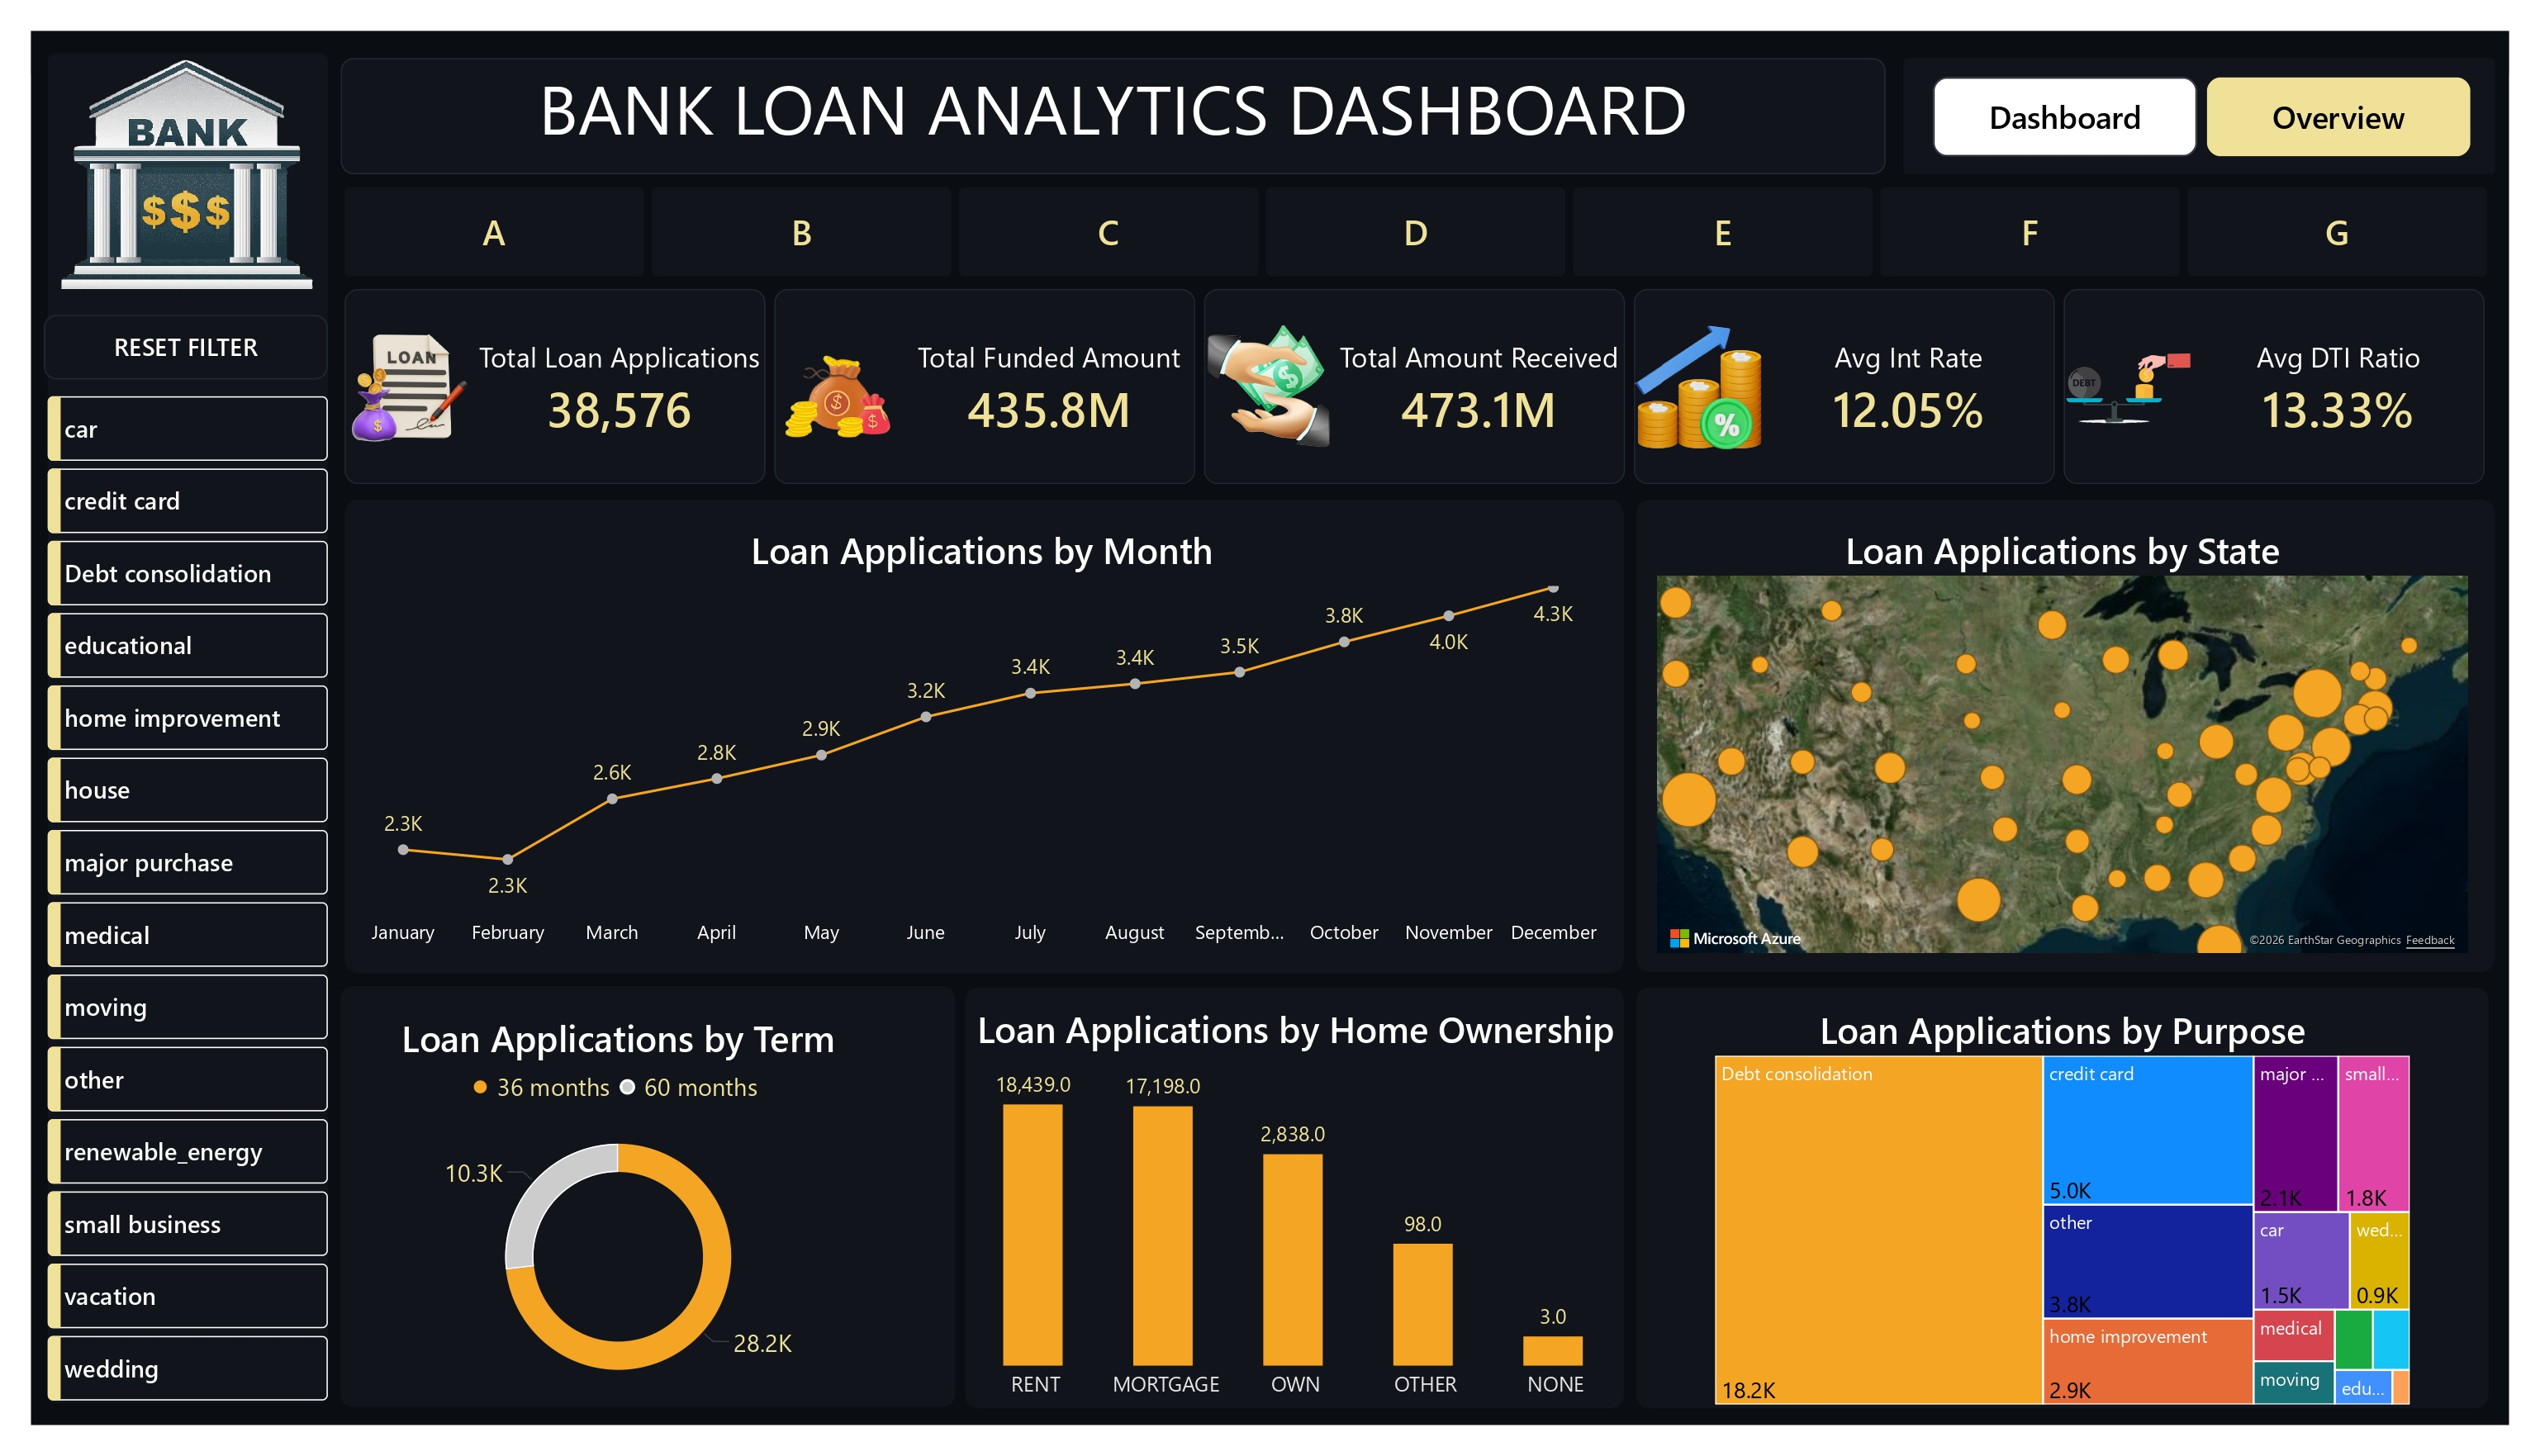

What the dashboard file says about the page in this screenshot:
{"tool":"powerbi","page":{"name":"Overview","canvas":[1920,1080],"ordinal":1},"visuals":[{"type":"cardVisual","fields":{"Data":["financial_loan.Total Loan Application","financial_loan.Total Funded Amount","financial_loan.Total Amount Received","financial_loan.Average Interest Rate","financial_loan.Average DTI Rate"]},"box":[250,187.8,1653.3,153.3],"z":0},{"type":"image","box":[0,0,250,210],"z":1000},{"type":"advancedSlicerVisual","fields":{"Values":["financial_loan.PURPOSE"]},"box":[14.3,264.3,211.4,802.9],"z":2000},{"type":"advancedSlicerVisual","fields":{"Values":["financial_loan.GRADE"]},"box":[260,113,1643,44],"z":3000},{"type":"actionButton","box":[14.3,200,211.4,50],"z":4000},{"type":"textbox","box":[250,24.3,1197.1,68.6],"z":5000},{"type":"pageNavigator","box":[1488.6,24.3,400,50],"z":6000},{"type":"lineChart","title":"Monthly Loan Applications","fields":{"Category":["financial_loan.ISSUE_DATE.Variation.Date Hierarchy.Month"],"Y":["financial_loan.Total Loan Application"]},"box":[250,365.7,985.7,348.6],"z":7000},{"type":"donutChart","title":"Loan Applications by Term","fields":{"Category":["financial_loan.TERM"],"Y":["financial_loan.Total Loan Application"]},"box":[250,738.6,458.6,328.6],"z":8000},{"type":"clusteredBarChart","title":"Loan Applications by Home Ownership","fields":{"Category":["financial_loan.HOME_OWNERSHIP"],"Y":["financial_loan.Total Loan Application"]},"box":[742.9,741.4,492.9,321.4],"z":9000},{"type":"treemap","title":"Loan Applications by Purpose","fields":{"Group":["financial_loan.PURPOSE"],"Values":["financial_loan.Total Loan Application"]},"box":[1271.4,738.6,617.1,324.3],"z":10000},{"type":"shapeMap","title":"Loan Applications by State","fields":{"Category":["financial_loan.ADDRESS_STATE"],"Value":["financial_loan.Total Loan Application"]},"box":[1271.4,365.7,631.4,350],"z":11000}]}

Visuals, with their boxes on the page's 1920x1080 design canvas (x1, y1, x2, y2). These are canvas units, not pixel positions in the 2540x1456 screenshot, which may show the page scaled, cropped or inside an application window:
cardVisual - financial_loan.Total Loan Application x financial_loan.Total Funded Amount: <box>250,188,1903,341</box>
image: <box>0,0,250,210</box>
advancedSlicerVisual - financial_loan.PURPOSE: <box>14,264,226,1067</box>
advancedSlicerVisual - financial_loan.GRADE: <box>260,113,1903,157</box>
actionButton: <box>14,200,226,250</box>
textbox: <box>250,24,1447,93</box>
pageNavigator: <box>1489,24,1889,74</box>
"Monthly Loan Applications" lineChart: <box>250,366,1236,714</box>
"Loan Applications by Term" donutChart: <box>250,739,709,1067</box>
"Loan Applications by Home Ownership" clusteredBarChart: <box>743,741,1236,1063</box>
"Loan Applications by Purpose" treemap: <box>1271,739,1888,1063</box>
"Loan Applications by State" shapeMap: <box>1271,366,1903,716</box>
